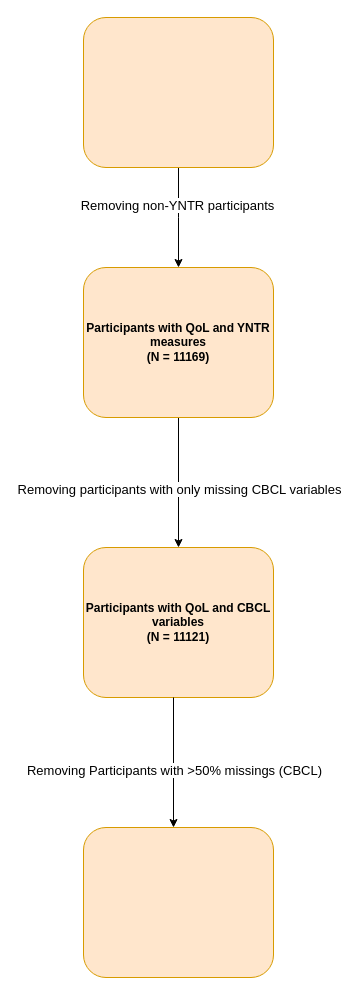
This 358x995 diagram has some shape labels left out. Here are the shapes that lost their labels. From the top down, the centre of each, then its label:
At (178,92): "Raw Dataset (Filtered on NTR participants with >= 1 Qol measure (N = 39764)".
At (178,902): "Participants with QoL and CBCL variables (N = 6552)".
